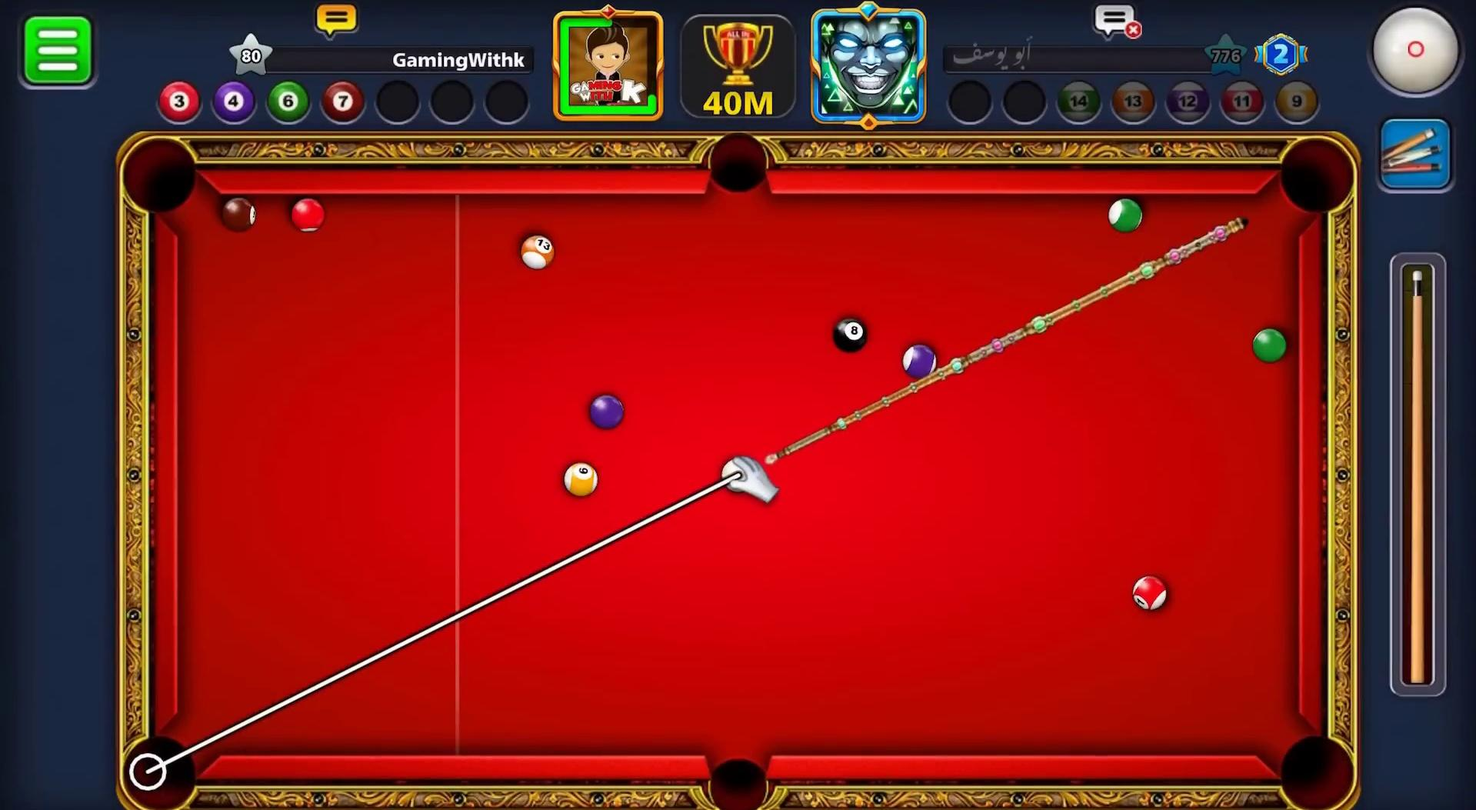Ball: (215, 195, 269, 238), (1129, 572, 1170, 620), (561, 456, 597, 497), (589, 396, 626, 433), (833, 316, 869, 353), (1252, 327, 1288, 364), (290, 196, 325, 234), (901, 341, 936, 377), (1108, 197, 1143, 232), (520, 234, 554, 269)
Force: (1390, 253, 1449, 700)
Guideline: (143, 468, 745, 781), (126, 753, 167, 791)
Hole: (1272, 132, 1356, 220), (1275, 731, 1352, 810), (124, 135, 202, 212), (126, 730, 202, 805), (702, 748, 771, 810), (708, 131, 768, 191)
Play_Area: (181, 192, 1293, 753)
Spin: (1360, 4, 1462, 99)
White: (723, 456, 761, 496)
